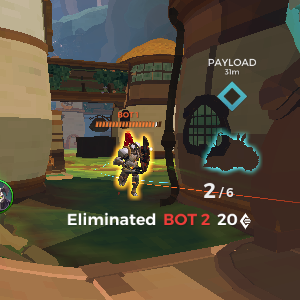model: (114, 132, 146, 199)
